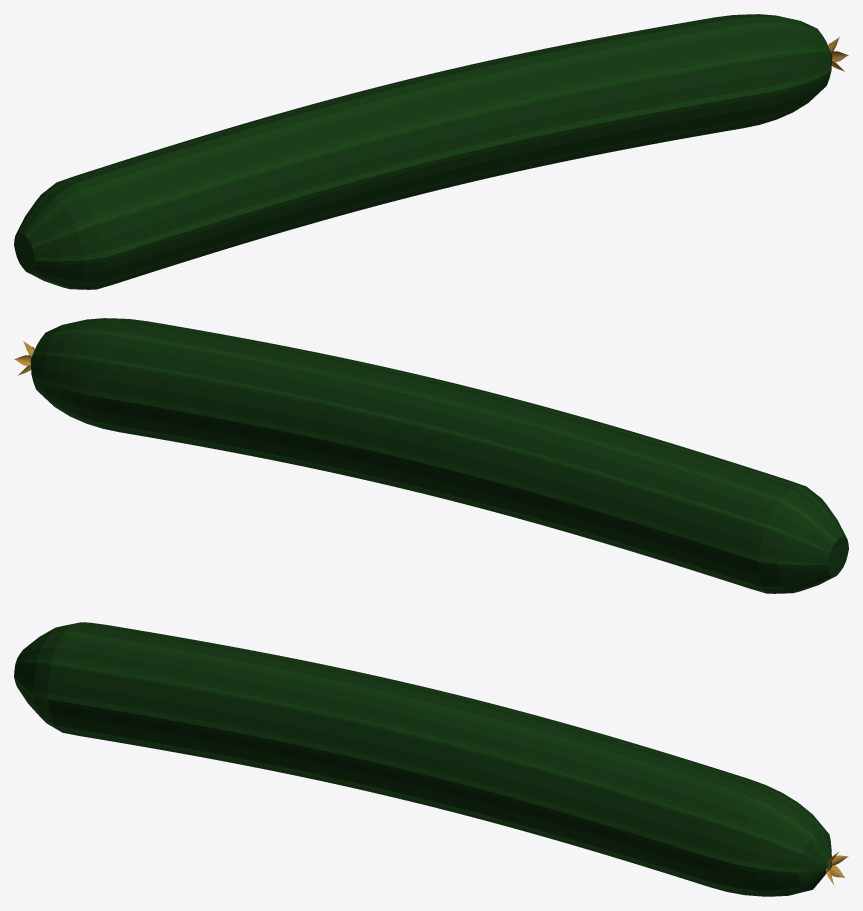
Rendered from fruit_04.obj.
3 renders of one model, top to bottom at view 1: azimuth 30°, elevation 25°; view 2: azimuth 150°, elevation 25°; view 3: azimuth 330°, elevation 25°, orthographic.
Bounding box in the file's own units: 1.01 × 0.1448 × 0.1257.
Materials: 1 (1 with a texture image).
